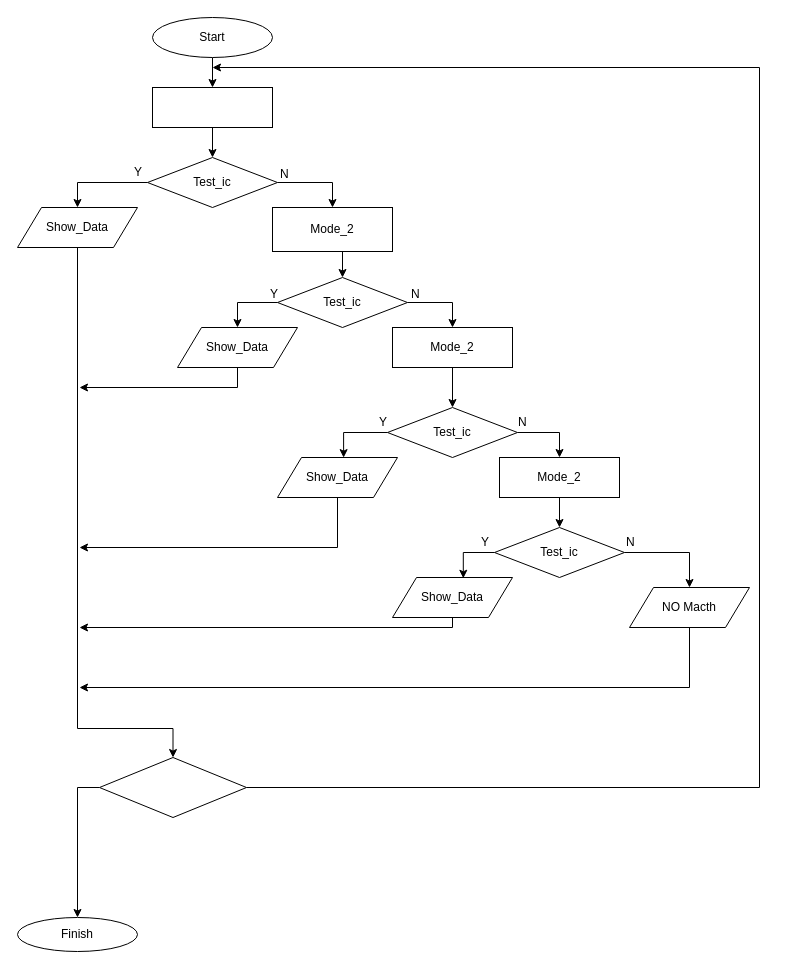
Some shapes in this 785 by 969 pixel diagram are drawn without their labels. The centre of each missing label's shape, as x and y in pixels:
"Exit" goes at point 172,787.
"Mode_1" goes at point 212,107.
